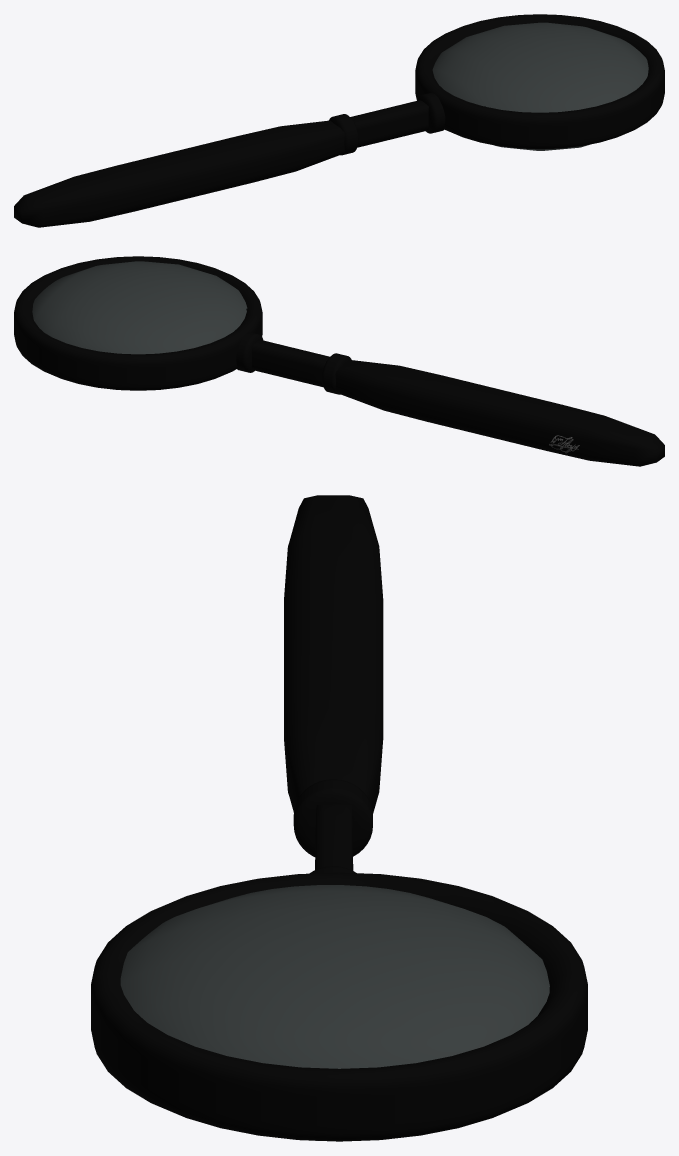
File: magnifying_glass.glb
3 views of the same model, one above another, from view 1: azimuth 30°, elevation 25°; view 2: azimuth 150°, elevation 25°; view 3: azimuth 270°, elevation 25° (orthographic). The views are drawn at different scales.
Visible parts, largest first — view 1: Box001; view 2: Box001; view 3: Box001.
Boxes of the visible parts, <box> form: Box001: <box>14,14,664,227</box>; Box001: <box>14,256,664,466</box>; Box001: <box>91,495,587,1141</box>.
Size of the model in its own units: 123 by 14.87 by 42.09.
1 material, 1 textured.
